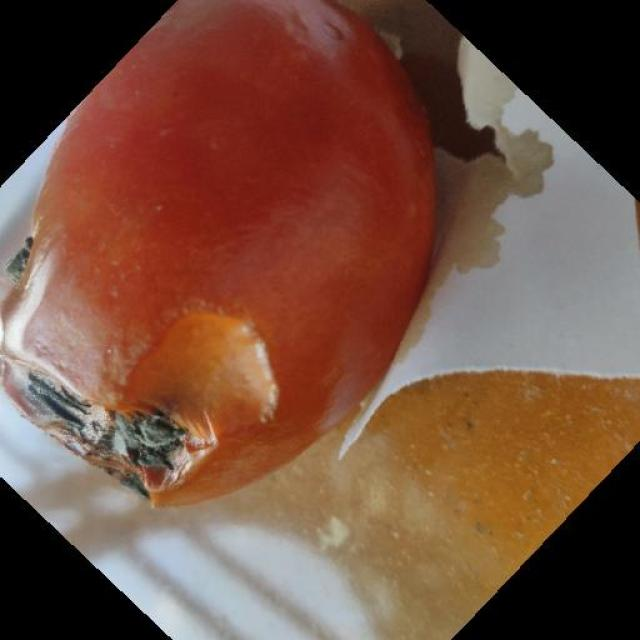Stale_tomato: (5, 5, 453, 531)
